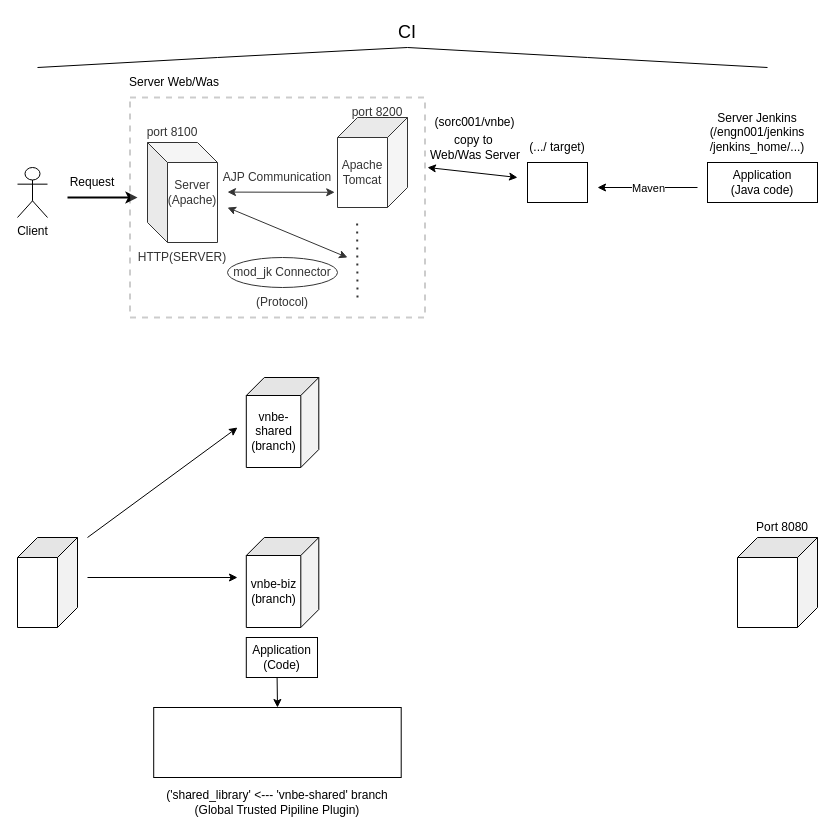
Image size: 835x834. Some labels were removed from this diagram. Each missing label, with the centre of its shape:
file war (*.war): (x=557, y=182)
Gitlab: (x=47, y=582)
Jenkins (Server): (x=777, y=582)
Jenkinsfile: @Library ( 'shared_library@develop' ) _ mainPipeline( 'vnbe'): (x=277, y=742)
